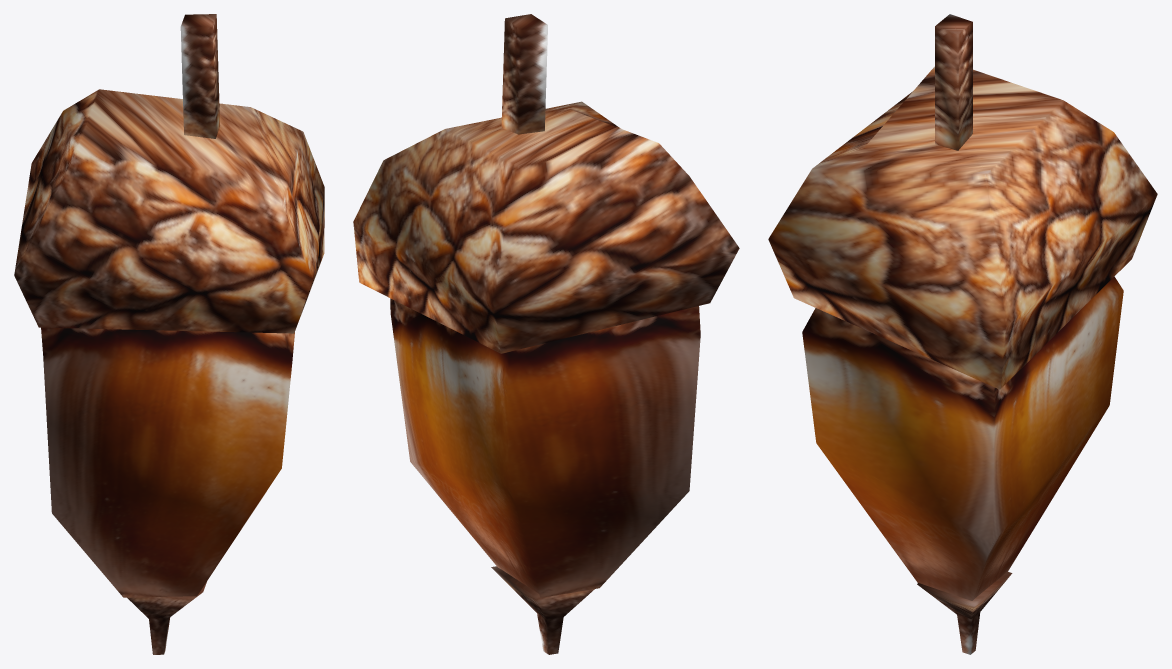
File: Acorn.fbx
3 views of the same model, side by side, from view 1: azimuth 30°, elevation 25°; view 2: azimuth 150°, elevation 25°; view 3: azimuth 270°, elevation 25° (orthographic). The views are drawn at different scales.
Visible parts, largest first — view 1: ACorn; view 2: ACorn; view 3: ACorn.
Boxes of the visible parts, box(x1,y1,x2,y2) form: ACorn: box(14, 14, 324, 654); ACorn: box(353, 14, 739, 654); ACorn: box(768, 14, 1157, 654).
Bounding box in the file's own units: 263 × 449 × 246.
